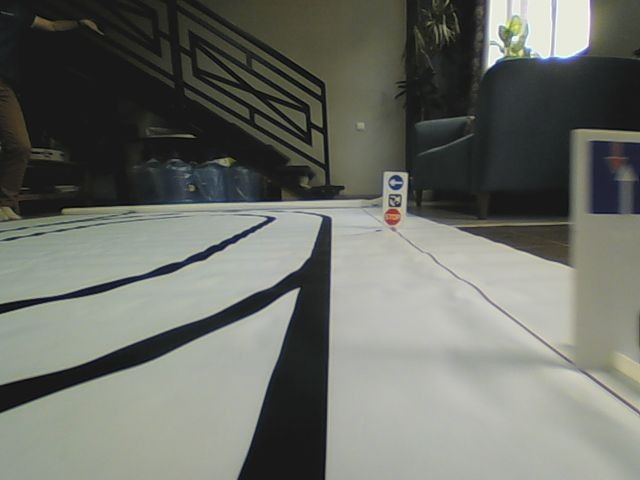Stop: (383, 207, 402, 227)
priority_movement: (587, 138, 640, 218)
